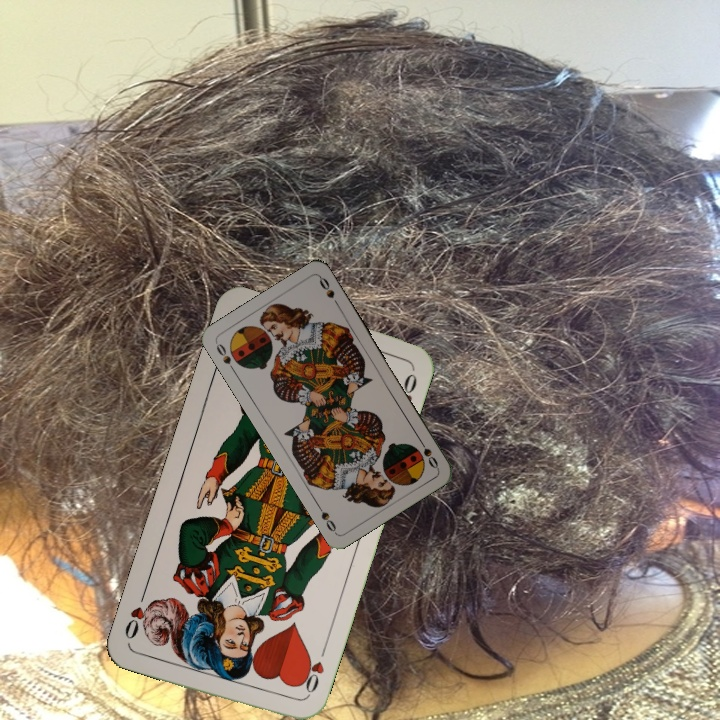HO: (295, 644, 329, 701)
SO: (414, 434, 441, 471), (212, 339, 238, 375)
